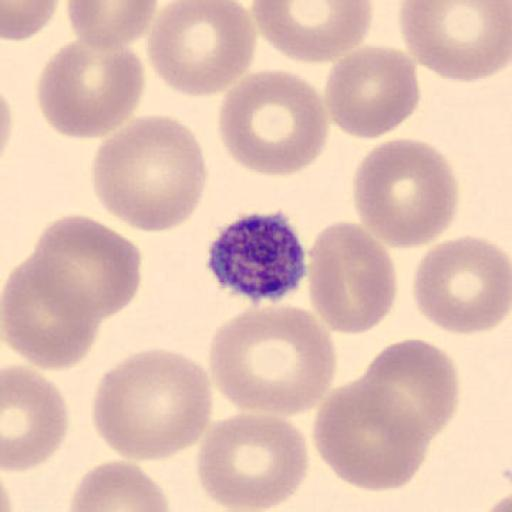Platelet: (204, 207, 311, 305)
RBC: (208, 304, 338, 418), (92, 346, 214, 464), (90, 114, 209, 234), (311, 377, 430, 492), (351, 136, 460, 250), (217, 68, 331, 177), (30, 212, 142, 322), (195, 411, 310, 511), (36, 36, 145, 140), (2, 255, 100, 370), (305, 218, 399, 336), (146, 0, 258, 99), (359, 337, 460, 442), (410, 234, 512, 336), (324, 43, 421, 140), (399, 1, 511, 84), (251, 0, 374, 66), (2, 363, 71, 473), (66, 460, 172, 512), (66, 0, 160, 48), (1, 0, 61, 42), (0, 85, 14, 162), (484, 488, 512, 512)
